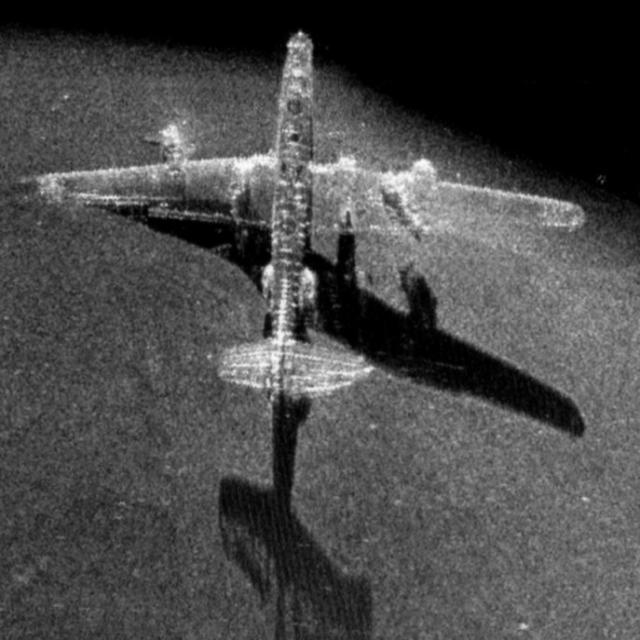plane: (20, 12, 582, 430)
